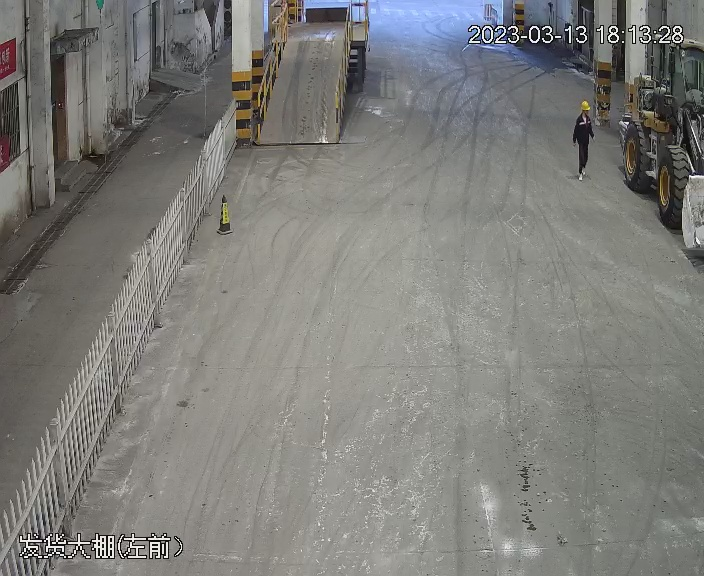head: (575, 101, 594, 125)
helmet: (580, 100, 591, 110)
people: (572, 100, 596, 180)
